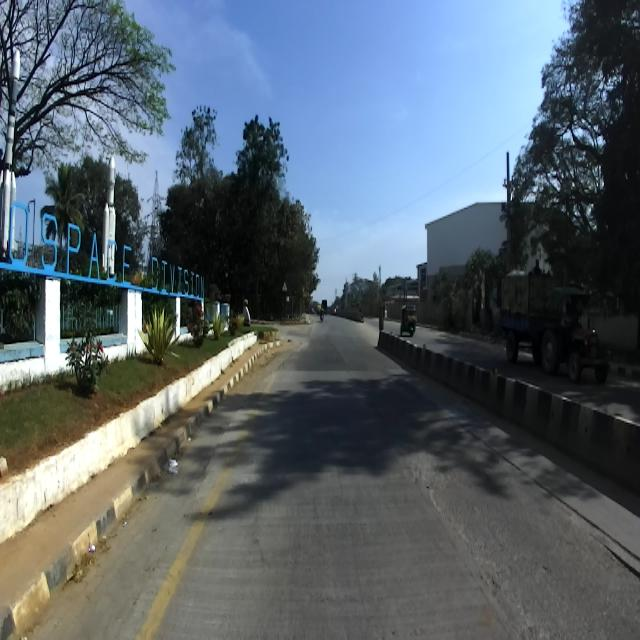plant ahead at: (134, 305, 182, 377), (70, 328, 104, 396)
